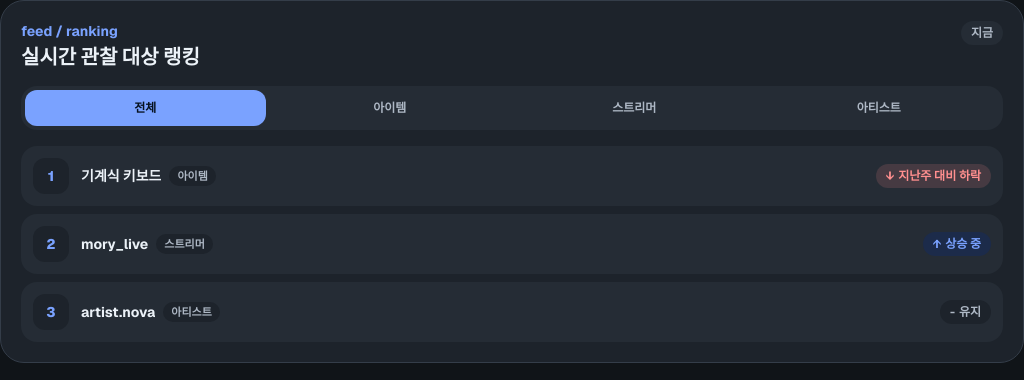
Test: PopularTargetSection › 아티스트 탭에서는 해당 종류의 대상만 보여준다
The image size is (1024, 380).
# 해당 종류 탭을 클릭한다
Click the tab "아티스트".
click(879, 108)  # box 758,90 -> 999,126
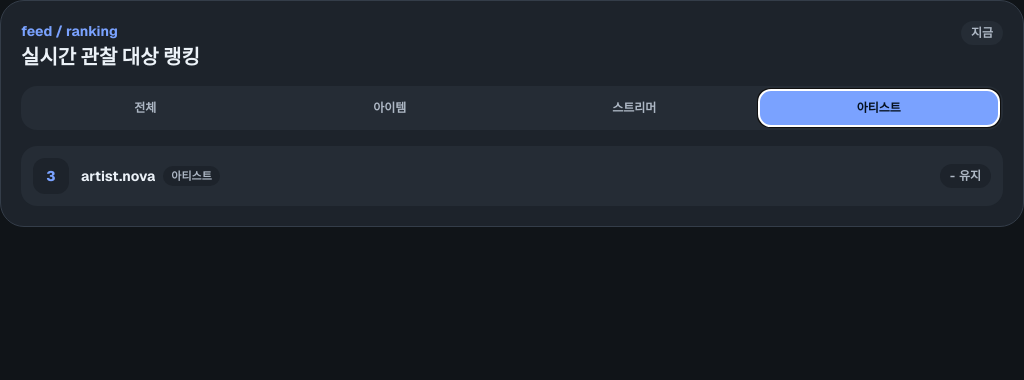
Expected: the text "artist.nova" is shown, 81,166 -> 155,186
Now the number of links is 1, box 21,146 -> 1003,206
